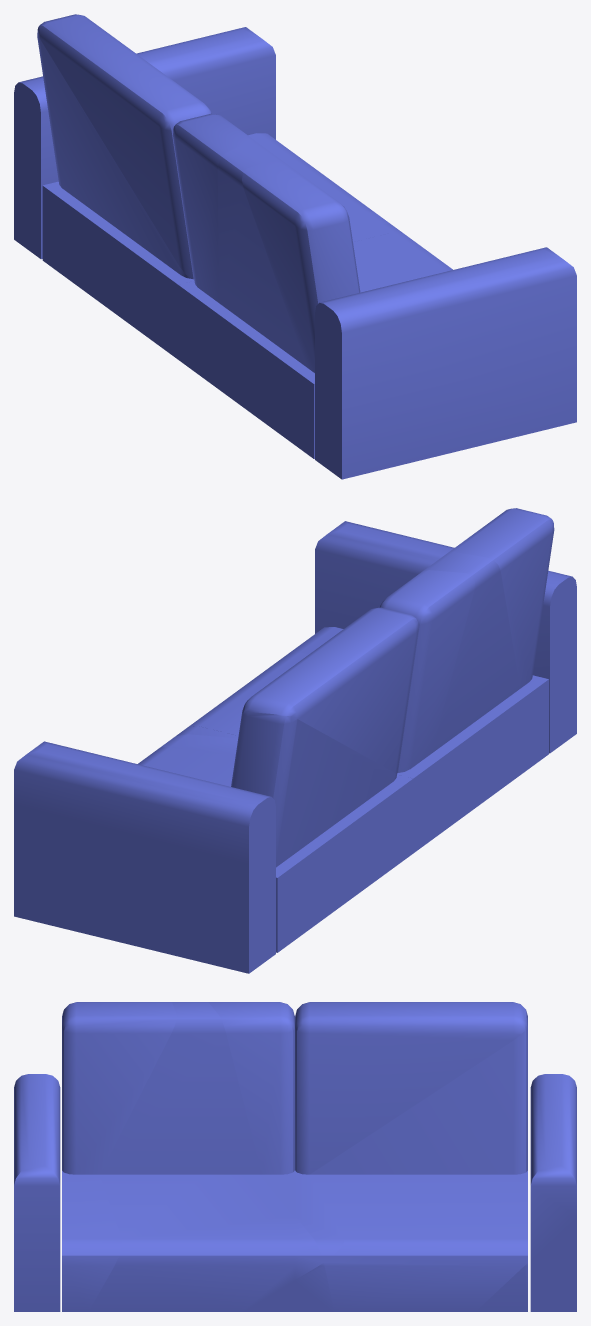
File: sofa2PPL 2.fbx
3 renders of one model, top to bottom at view 1: azimuth 30°, elevation 25°; view 2: azimuth 150°, elevation 25°; view 3: azimuth 270°, elevation 25°, orthographic. The views are drawn at different scales.
Visible parts, largest first — view 1: Cube.060, Cube.063, Cube.059, Cube.064, Cube.061, Cube.062; view 2: Cube.063, Cube.061, Cube.059, Cube.060, Cube.064, Cube.062; view 3: Cube.063, Cube.064, Cube.059, Cube.060, Cube.061, Cube.062.
Boxes of the visible parts, bbox=[...] form: Cube.060: bbox=[242, 159, 576, 479]; Cube.063: bbox=[14, 27, 374, 376]; Cube.059: bbox=[37, 14, 389, 337]; Cube.064: bbox=[206, 140, 452, 462]; Cube.061: bbox=[14, 132, 71, 281]; Cube.062: bbox=[202, 338, 240, 405]; Cube.063: bbox=[14, 712, 441, 931]; Cube.061: bbox=[14, 806, 306, 973]; Cube.059: bbox=[161, 570, 474, 790]; Cube.060: bbox=[289, 508, 576, 750]; Cube.064: bbox=[176, 552, 553, 807]; Cube.062: bbox=[437, 791, 475, 835]; Cube.063: bbox=[308, 1009, 576, 1311]; Cube.064: bbox=[88, 1002, 323, 1311]; Cube.059: bbox=[207, 1002, 526, 1261]; Cube.060: bbox=[14, 1002, 176, 1311]; Cube.061: bbox=[475, 1217, 576, 1311]; Cube.062: bbox=[242, 1263, 334, 1311].
Bounding box in the file's own units: 209 × 199 × 483.
